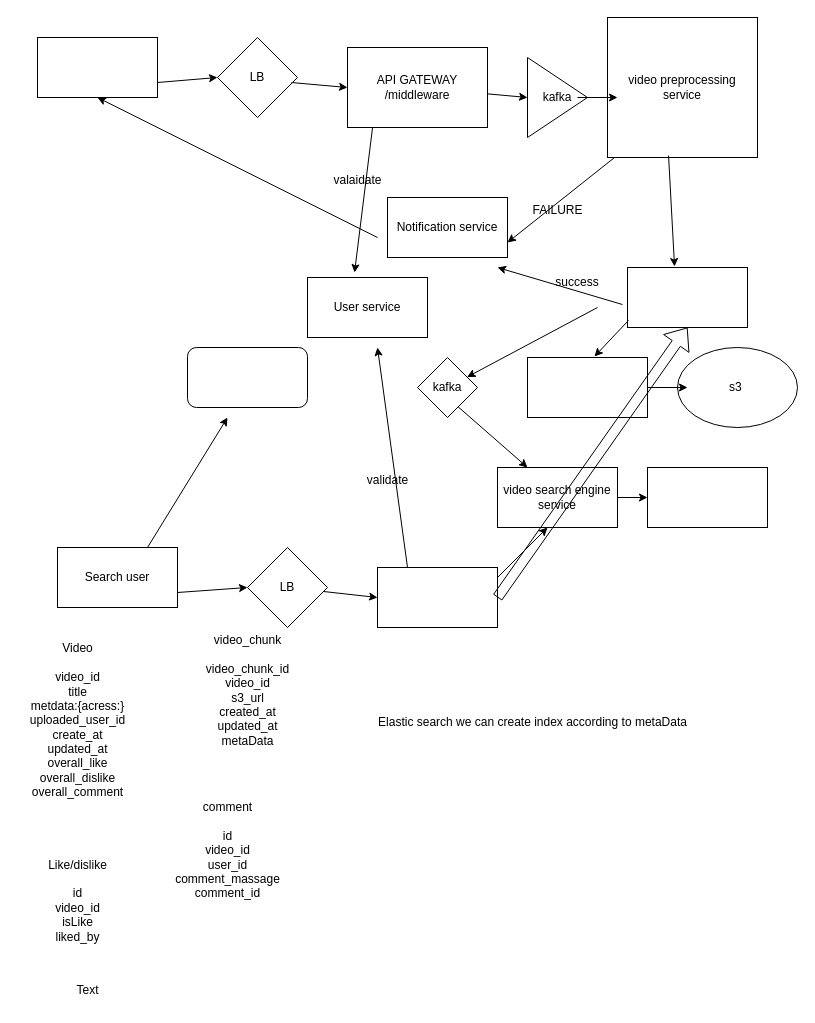
Image size: 815x1023. Some labels were removed from this diagram. The centre of each missing label's shape, as x and y in pixels:
"CDN" belongs at pixel 247 377.
"Elastic search" belongs at pixel 707 497.
"middleware / aggregatoe service" belongs at pixel 437 597.
"mongo for stroing video" belongs at pixel 587 387.
"Upload users" belongs at pixel 97 67.
"video service" belongs at pixel 687 297.
